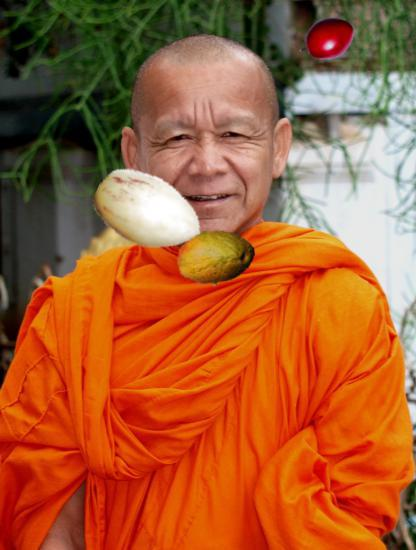Papaya: (177, 219, 256, 298)
Pepino: (93, 156, 205, 268)
Tamarillo: (298, 11, 356, 69)
